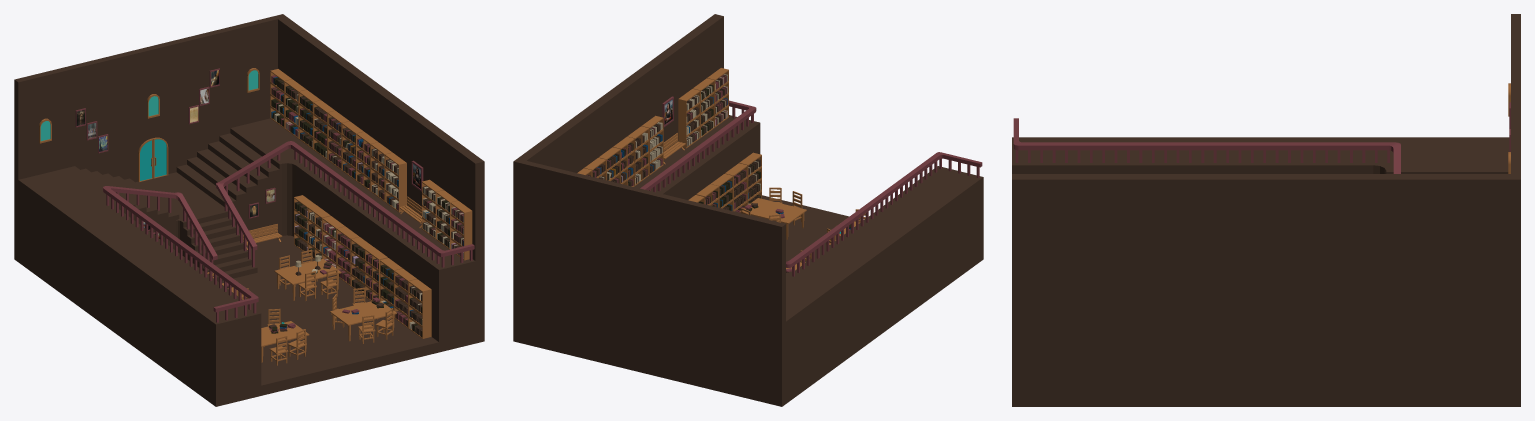
The model's file is biblioteca.fbx.
3 views of the same model, side by side, from view 1: azimuth 30°, elevation 25°; view 2: azimuth 150°, elevation 25°; view 3: azimuth 270°, elevation 25° (orthographic). The views are drawn at different scales.
Visible parts, largest first — view 1: pCube1, pCube52, pCube407, pCube78, pCube104, polySurface568, polySurface828, polySurface633, pCube54, polySurface937, polySurface880, polySurface116 (+11 smaller); view 2: pCube1, pCube52, pCube78, polySurface763, polySurface880, polySurface937, polySurface633, polySurface828, polySurface698; view 3: pCube1, pCube52.
Part boxes in pixels (x1,y1,x2,y2): pCube1: (14,14,484,406); pCube52: (103,141,474,322); pCube407: (138,137,168,181); pCube78: (330,301,396,341); pCube104: (274,259,341,300); polySurface568: (408,279,431,338); polySurface828: (385,152,406,212); polySurface633: (450,200,472,260); pCube54: (261,321,309,362); polySurface937: (356,132,377,191); polySurface880: (370,142,392,201); polySurface116: (308,205,330,259); pCube1: (513,14,983,406); pCube52: (640,100,982,276); pCube78: (739,198,806,239); polySurface763: (678,89,700,148); polySurface880: (627,126,648,185); polySurface937: (613,136,634,186); polySurface633: (707,68,728,127); polySurface828: (642,115,663,175); polySurface698: (692,78,714,137); pCube1: (1012,14,1520,406); pCube52: (1013,118,1400,173).
Size of the model in its own units: 27.26 by 17.46 by 35.42.
